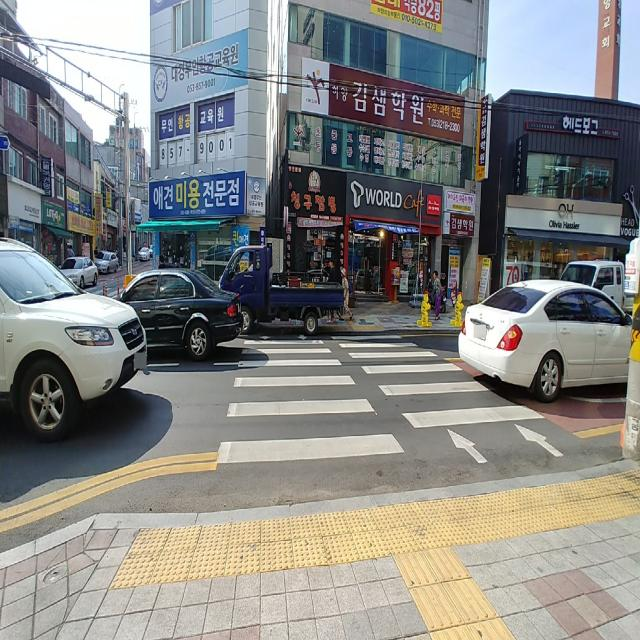횡단보도: (217, 336, 563, 464)
